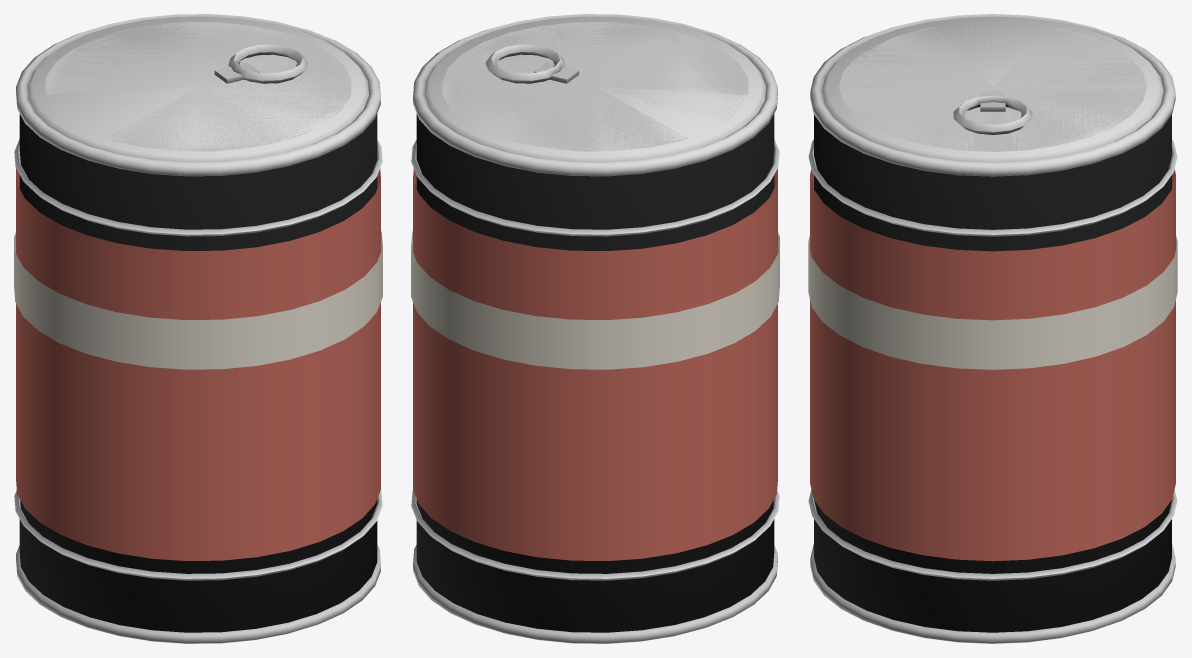
File: nd_tin_beans.glb
The picture shows the model from 3 angles, left to right: view 1: azimuth 30°, elevation 25°; view 2: azimuth 150°, elevation 25°; view 3: azimuth 270°, elevation 25°; orthographic projection.
Visible parts, largest first — view 1: PART; view 2: PART; view 3: PART.
Boxes of the visible parts, bbox=[...] form: PART: bbox=[14, 14, 382, 643]; PART: bbox=[411, 14, 779, 643]; PART: bbox=[808, 14, 1177, 643].
Bounding box in the file's own units: 0.1176 × 0.1738 × 0.1176.
